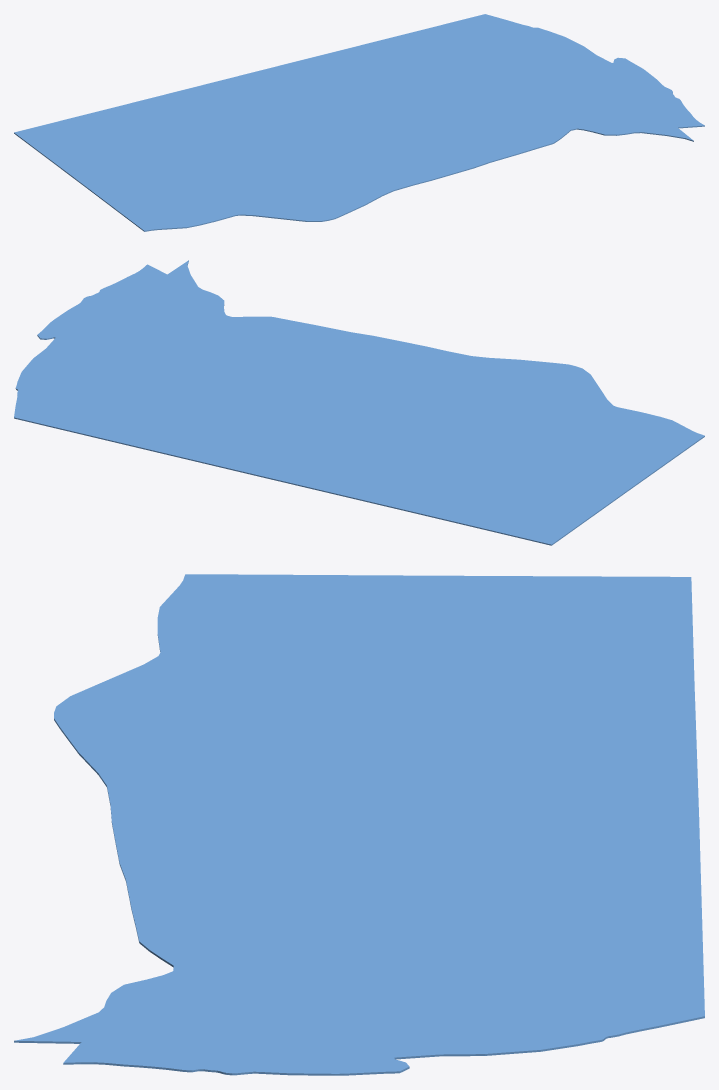
3 renders of one model, top to bottom at view 1: azimuth 30°, elevation 25°; view 2: azimuth 150°, elevation 25°; view 3: azimuth 270°, elevation 25°, orthographic. The views are drawn at different scales.
Size of the model in its own units: 1677 by 3.05 by 980.
